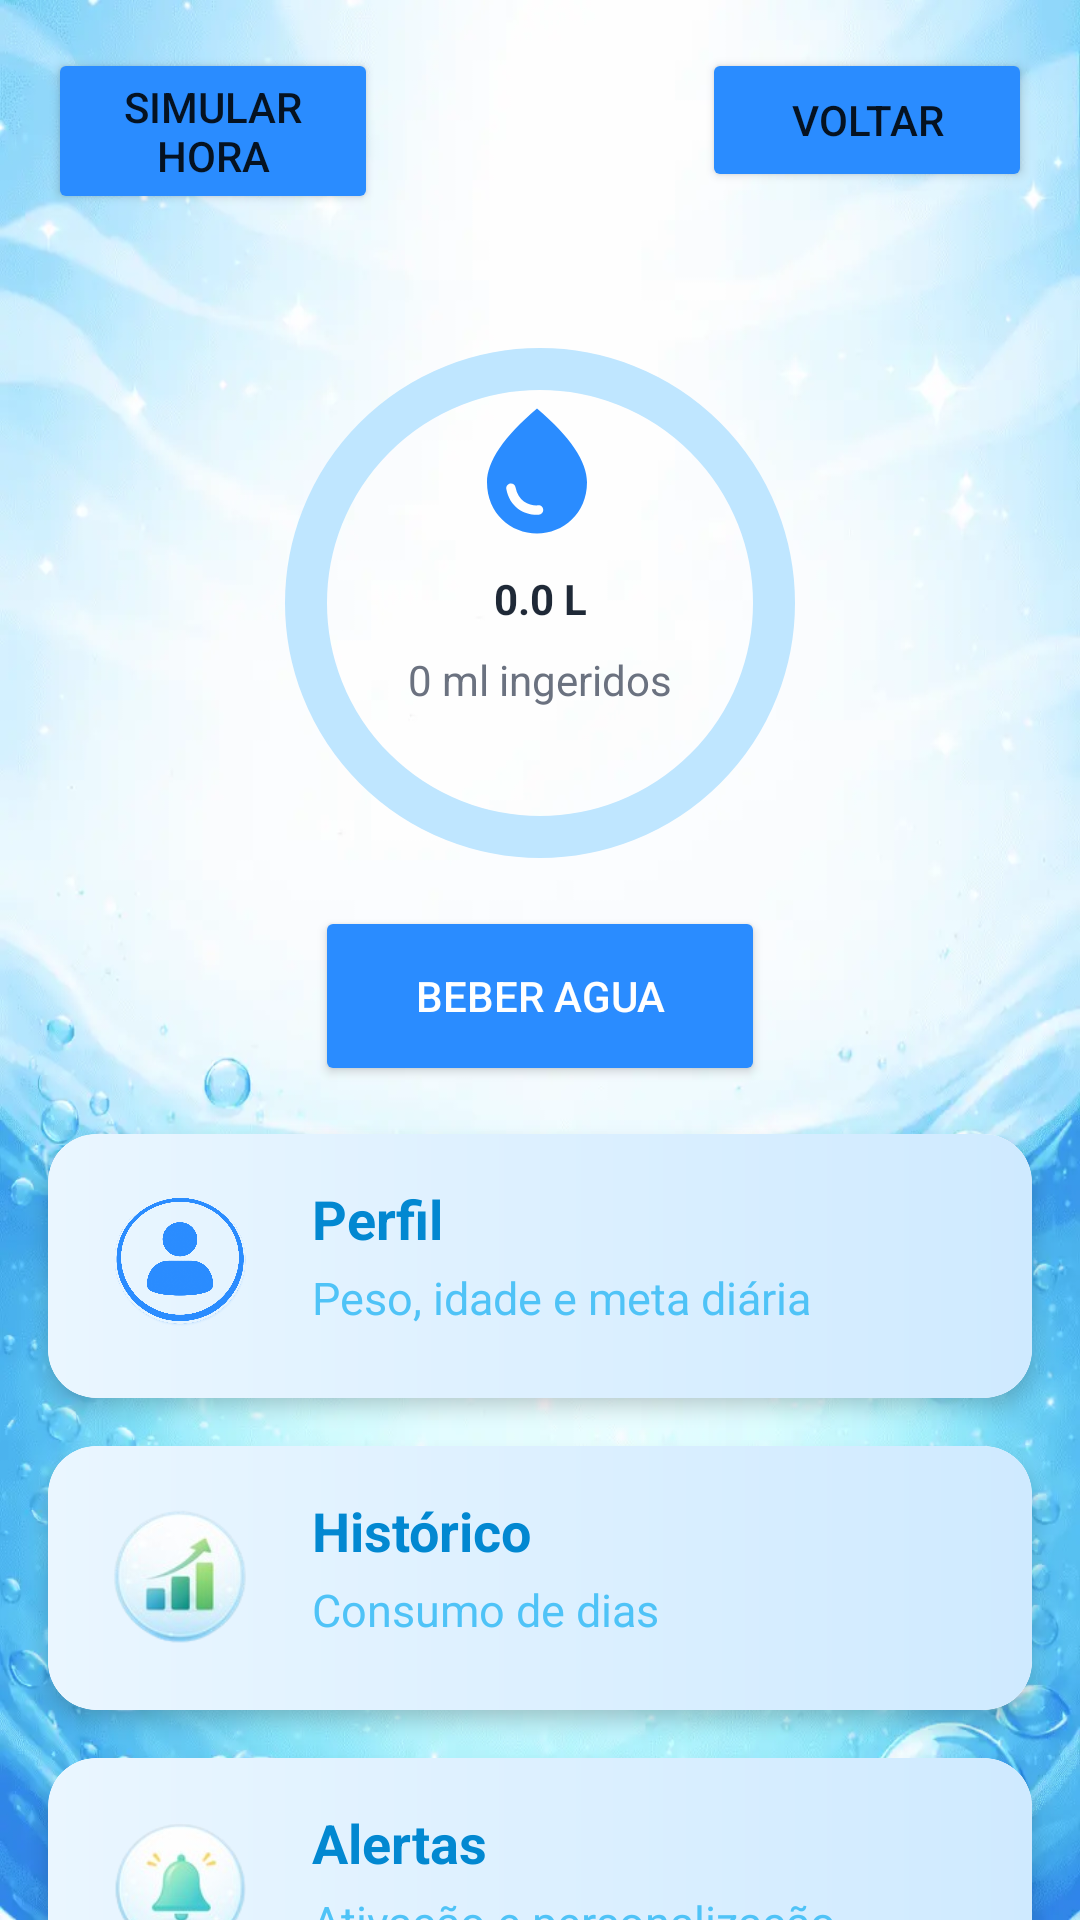

Point at icon controls on the screen. Image size 1080x1920, points as point (x, y).
gota agua: point (537, 471)
historicos: point (180, 1580)
